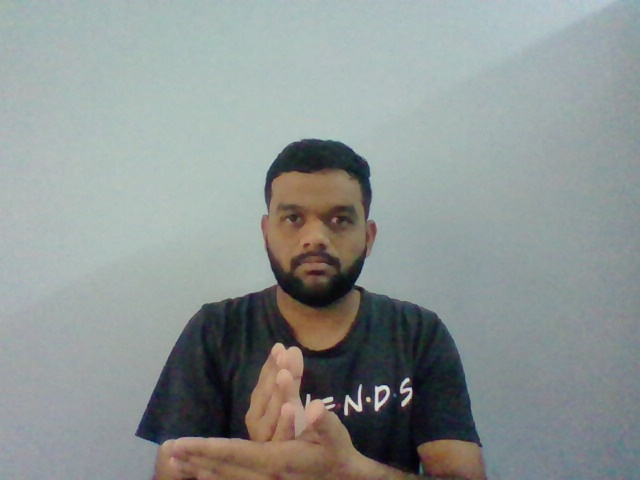Stop: (159, 340, 361, 480)
